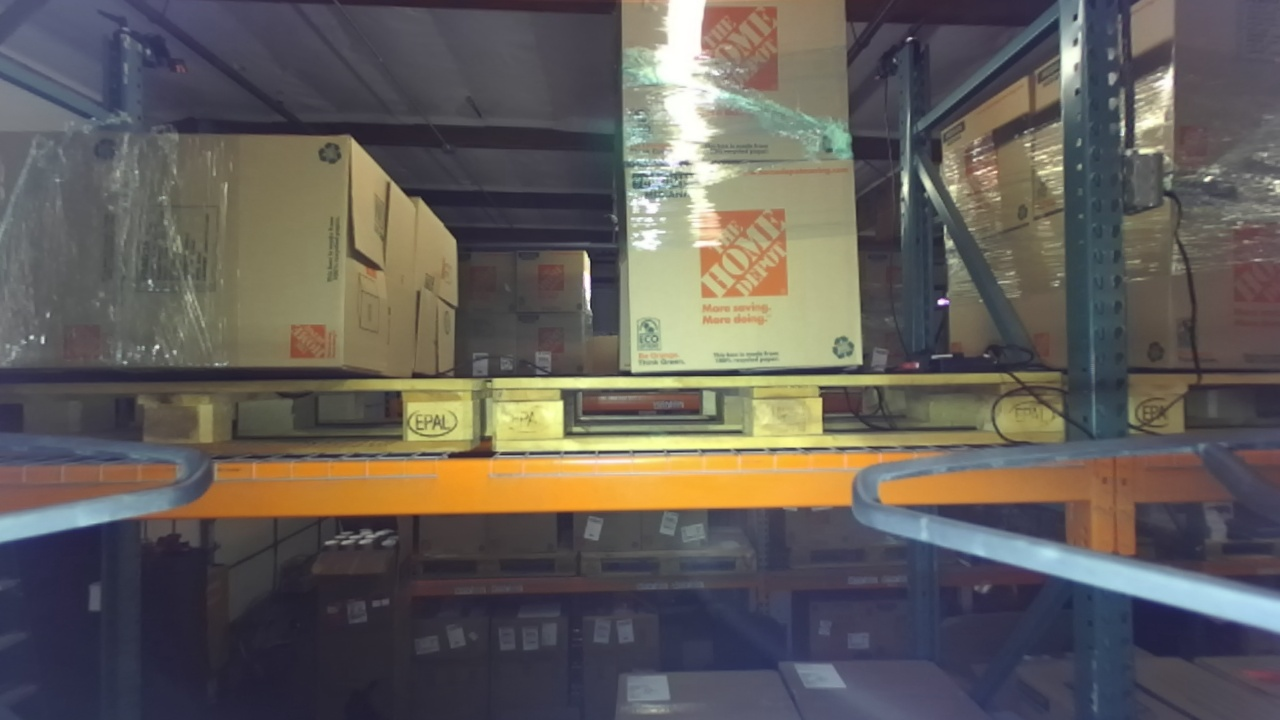box: (105, 120, 420, 381), (610, 156, 883, 383), (605, 2, 869, 173)
